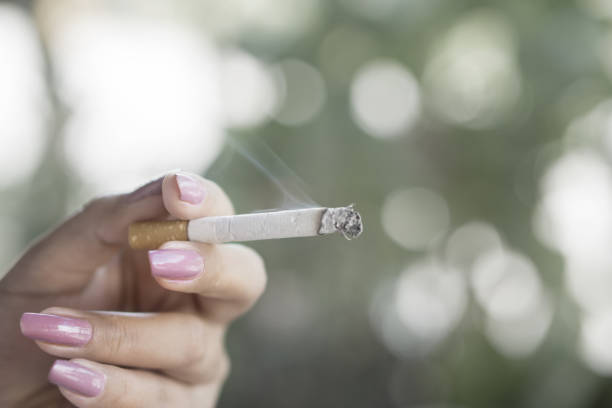cigarette: (130, 207, 364, 254)
